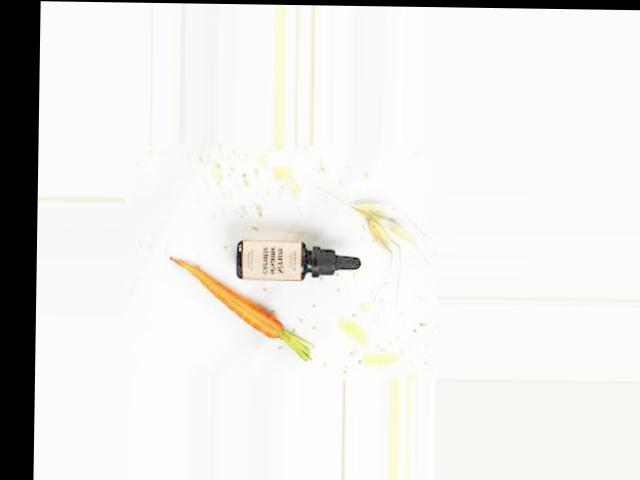carrot: (162, 247, 286, 343)
